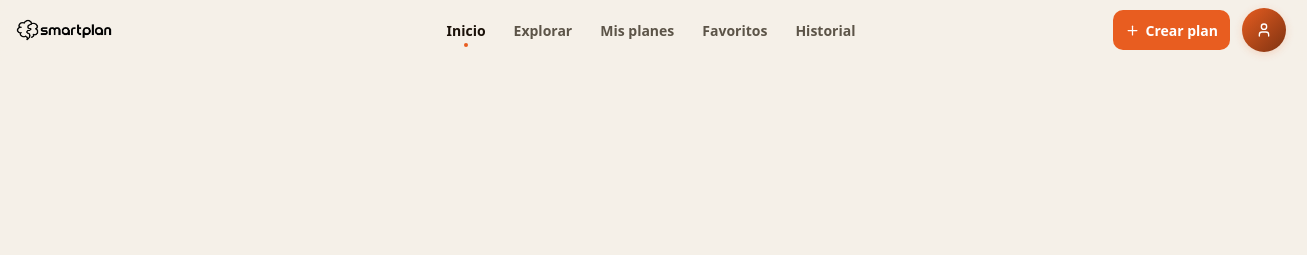
Navbar › closes the user menu with Escape
This screenshot has width=1307, height=255.
Click the button named "mi cuenta": (1264, 30) [1242,8,1286,52]
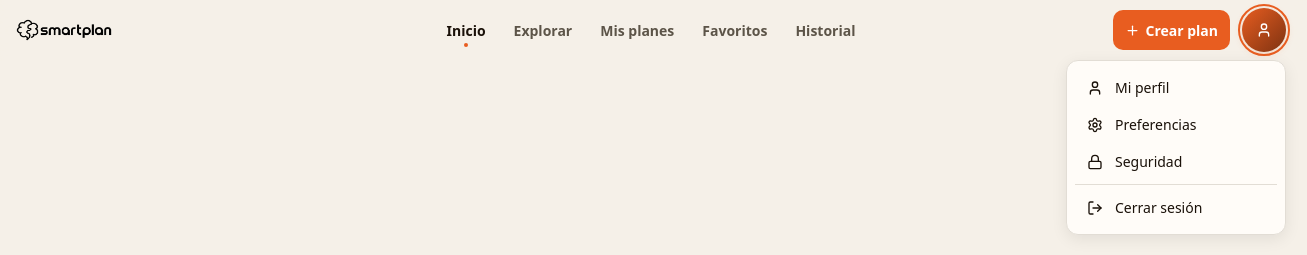
Press Escape
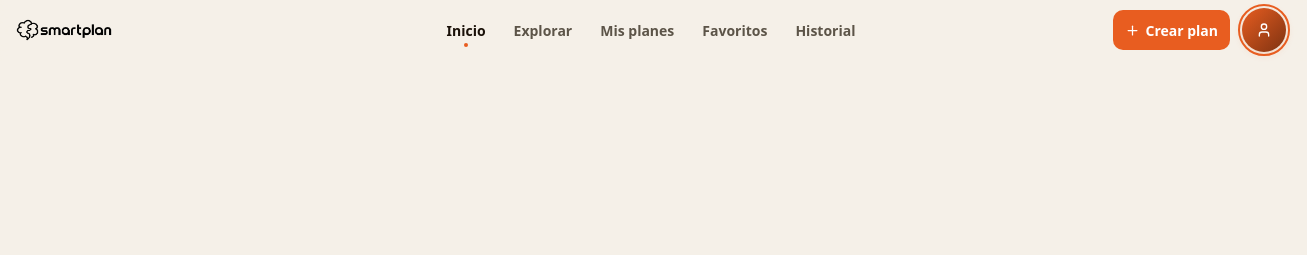
Result: the link "Mi perfil" is gone
